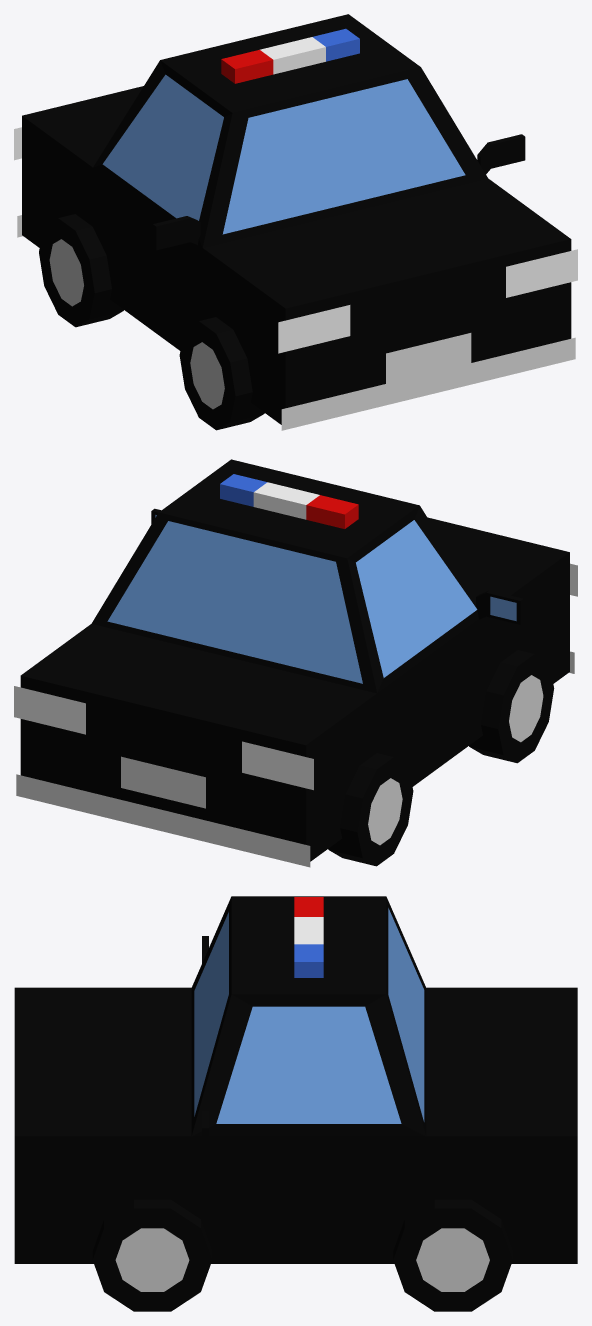
The model's file is patrulla.fbx.
3 renders of one model, top to bottom at view 1: azimuth 30°, elevation 25°; view 2: azimuth 150°, elevation 25°; view 3: azimuth 270°, elevation 25°, orthographic. The views are drawn at different scales.
Visible parts, largest first — view 1: carro; view 2: carro; view 3: carro.
Part boxes in pixels (x1,y1,x2,y2): carro: (14, 14, 577, 430); carro: (14, 459, 577, 867); carro: (14, 896, 577, 1311).
Size of the model in its own units: 646 by 468 by 801.
